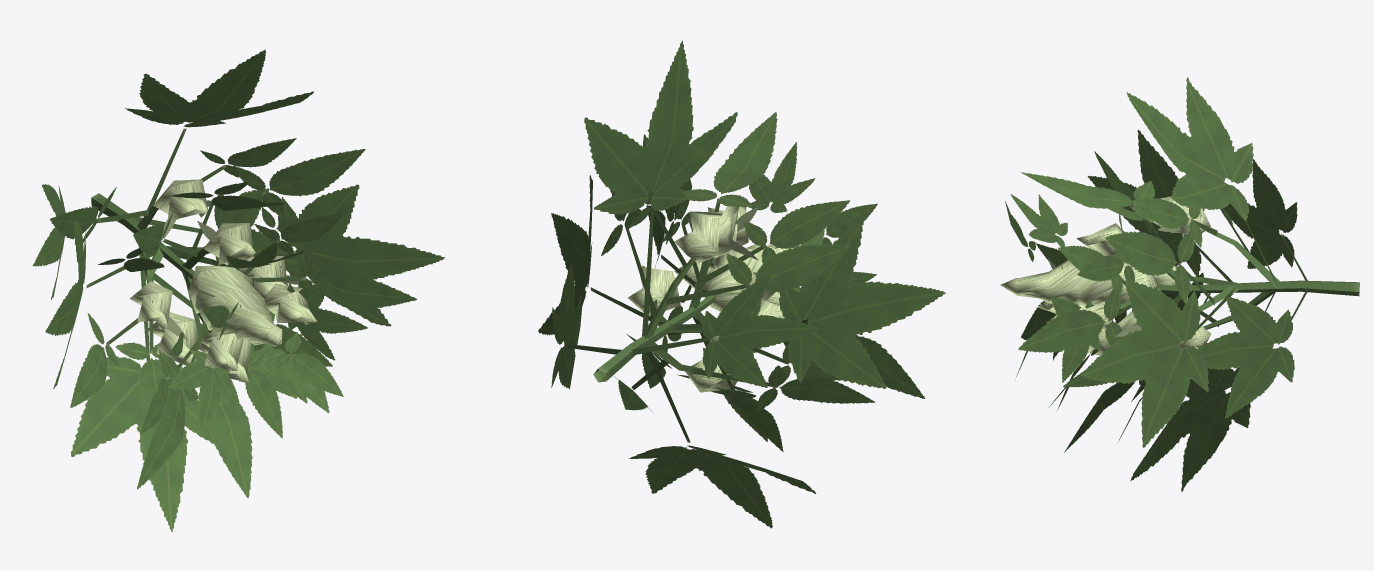
File: p_frosty_auto_flowering_c0_cards.obj
3 renders of one model, left to right at view 1: azimuth 30°, elevation 25°; view 2: azimuth 150°, elevation 25°; view 3: azimuth 270°, elevation 25°, orthographic. The views are drawn at different scales.
Bounding box in the file's own units: 1.29 × 1.48 × 0.935.
Materials: 1 (1 with a texture image).
